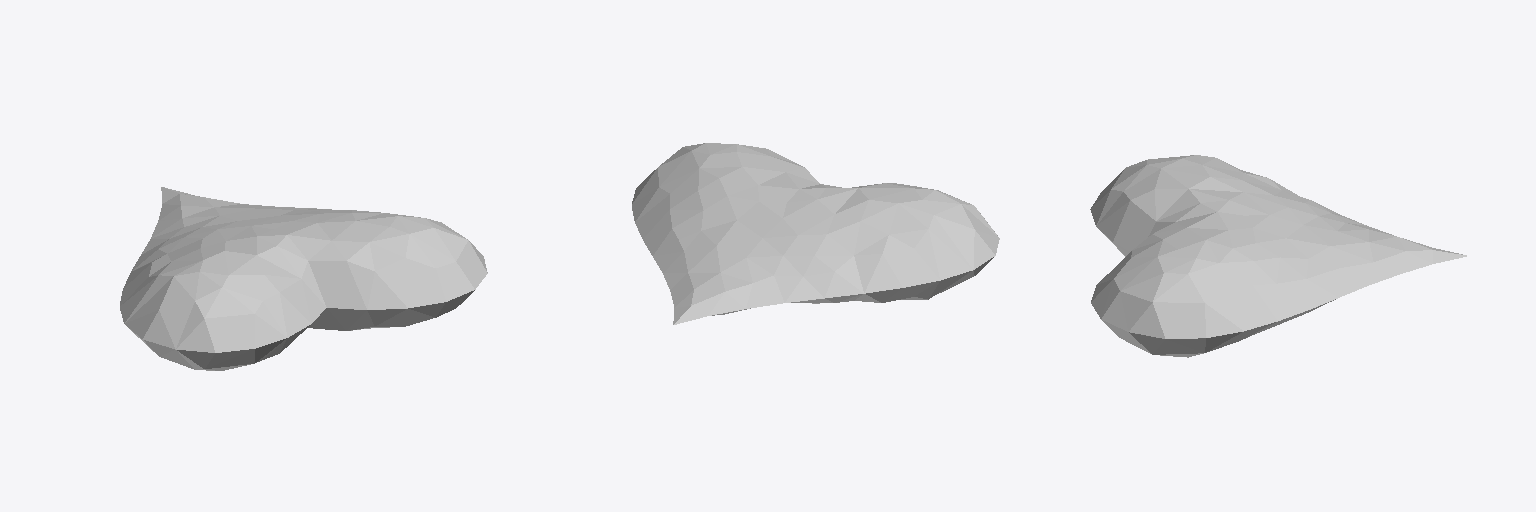
Rendered from heart.obj.
3 views of the same model, side by side, from view 1: azimuth 30°, elevation 25°; view 2: azimuth 150°, elevation 25°; view 3: azimuth 270°, elevation 25° (orthographic).
Parts seen in each view (by area): view 1: Line002; view 2: Line002; view 3: Line002.
Boxes of the visible parts, x1,y1,x2,y2 form: Line002: [120, 187, 487, 370]; Line002: [632, 143, 999, 324]; Line002: [1090, 155, 1466, 357].
Size of the model in its own units: 36.32 by 9.53 by 34.98.